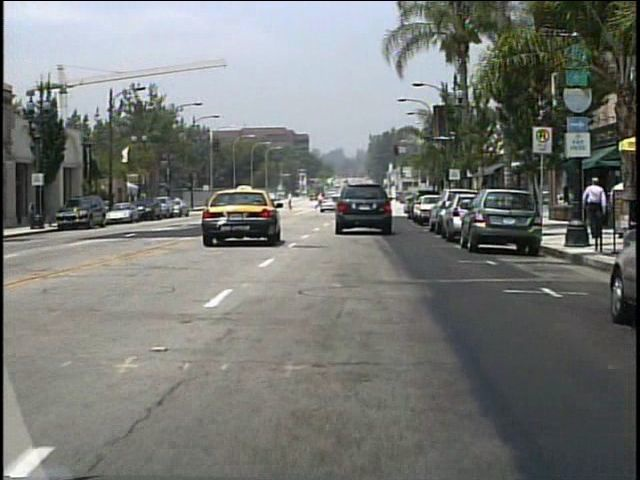person: (583, 176, 608, 238), (286, 192, 298, 213), (316, 192, 327, 212)
